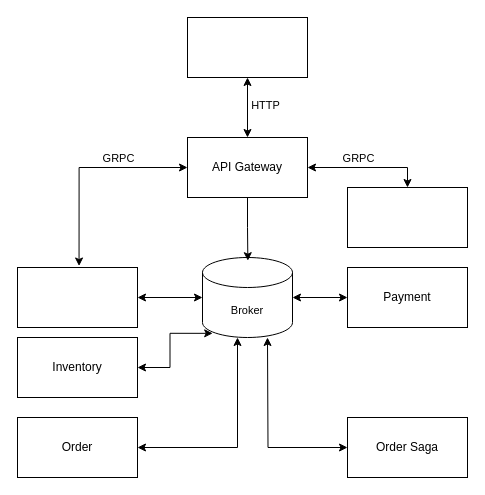
Image size: 485x495. Some labels were removed from this diagram. Here are the shapes that lost their labels. From the top down, the centre of each, then its label:
the point at 247,47: Клиент
the point at 407,217: Order History
the point at 77,297: Product
